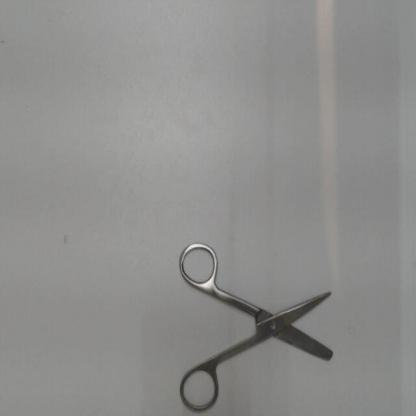Dressing Scissors: (170, 231, 341, 415)
